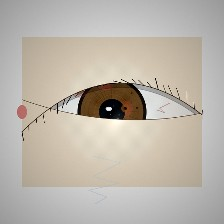foreign_body_visible: (86, 66, 124, 96)
